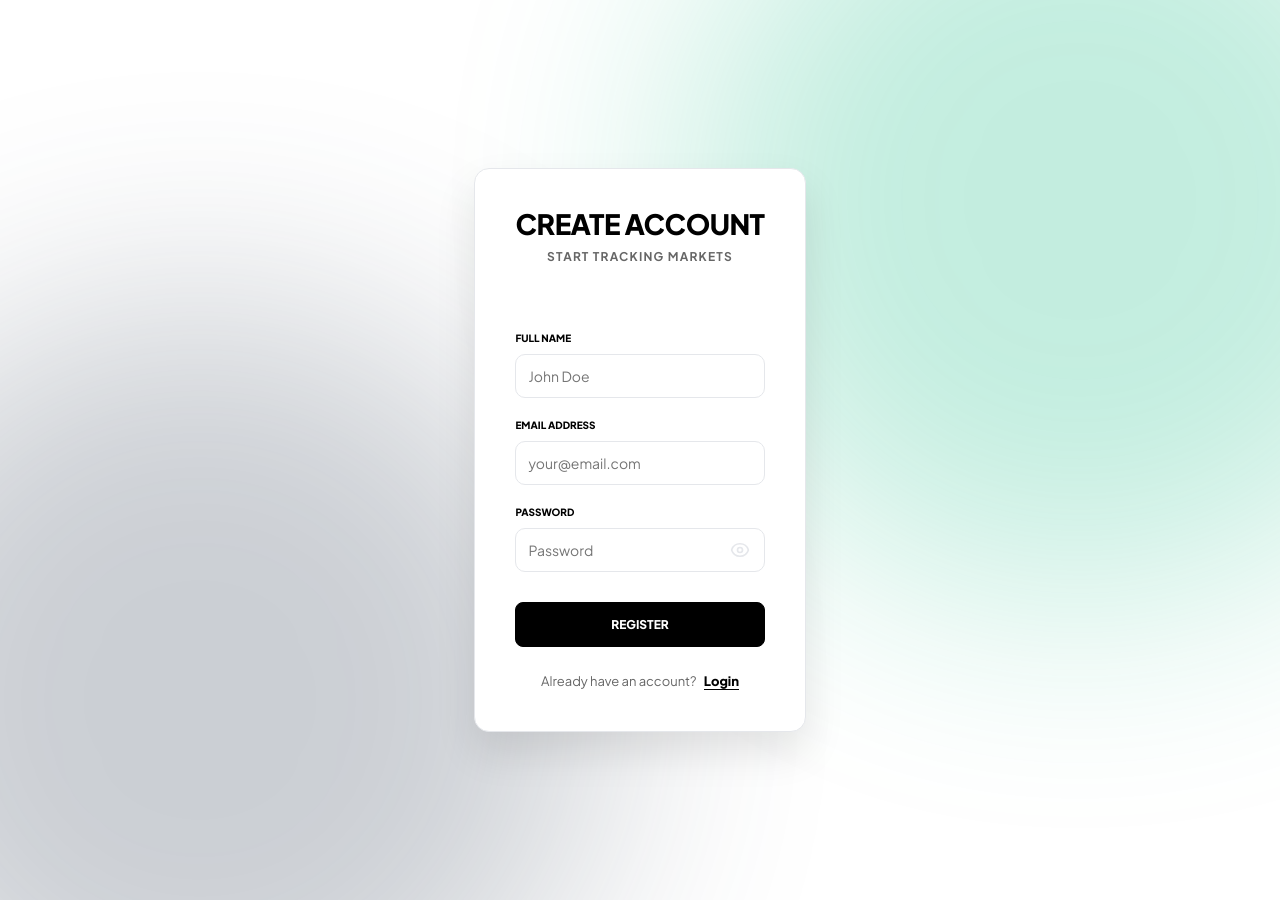
Scenario: Register › firebase hiba esetén megjelenik a hibaüzenet
In the field with placeholder "John Doe": (640, 376) left=516, top=354, right=764, bottom=398, type "Test Elek"
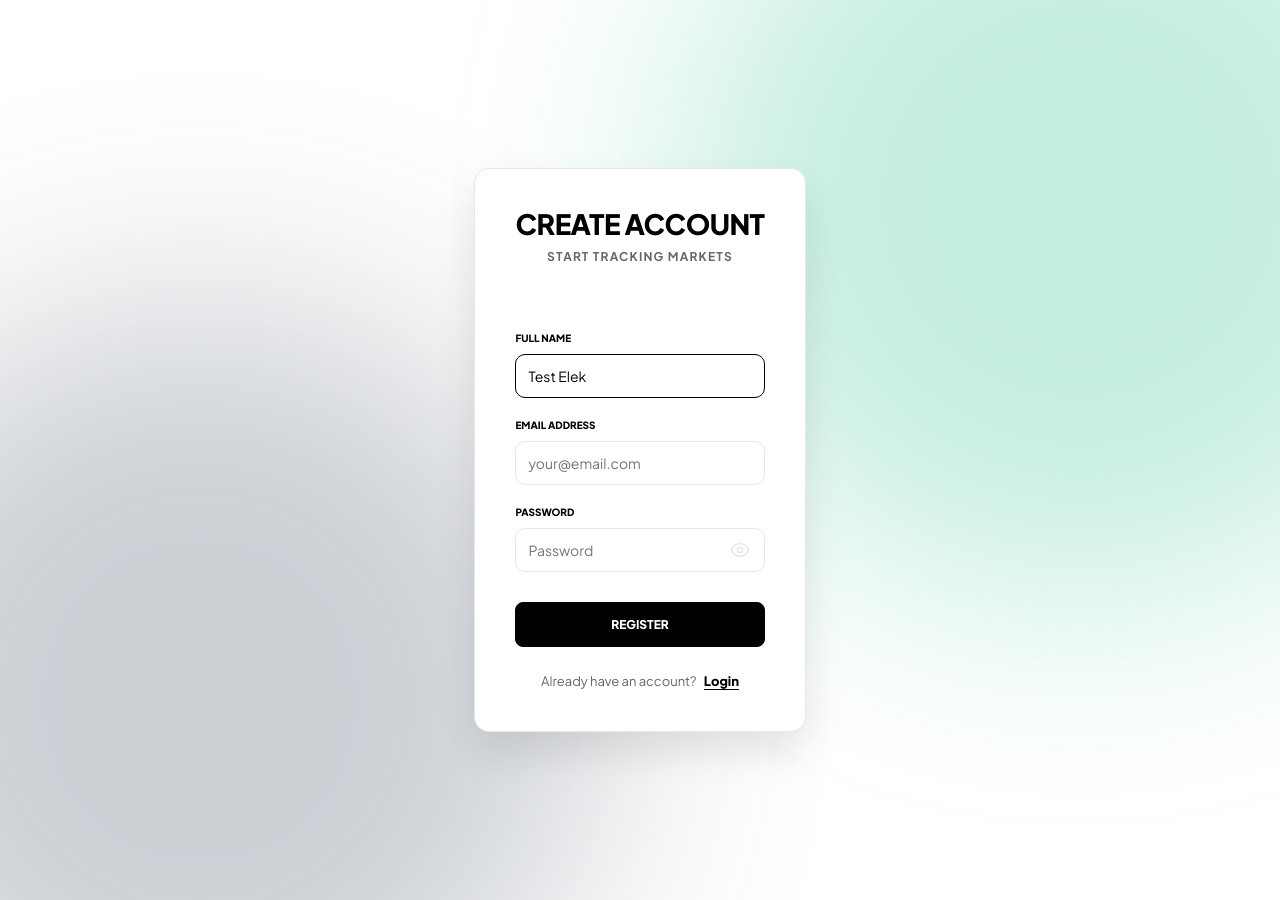
In the field with placeholder "your@email.com": (640, 463) left=516, top=441, right=764, bottom=485, type "test@test.com"
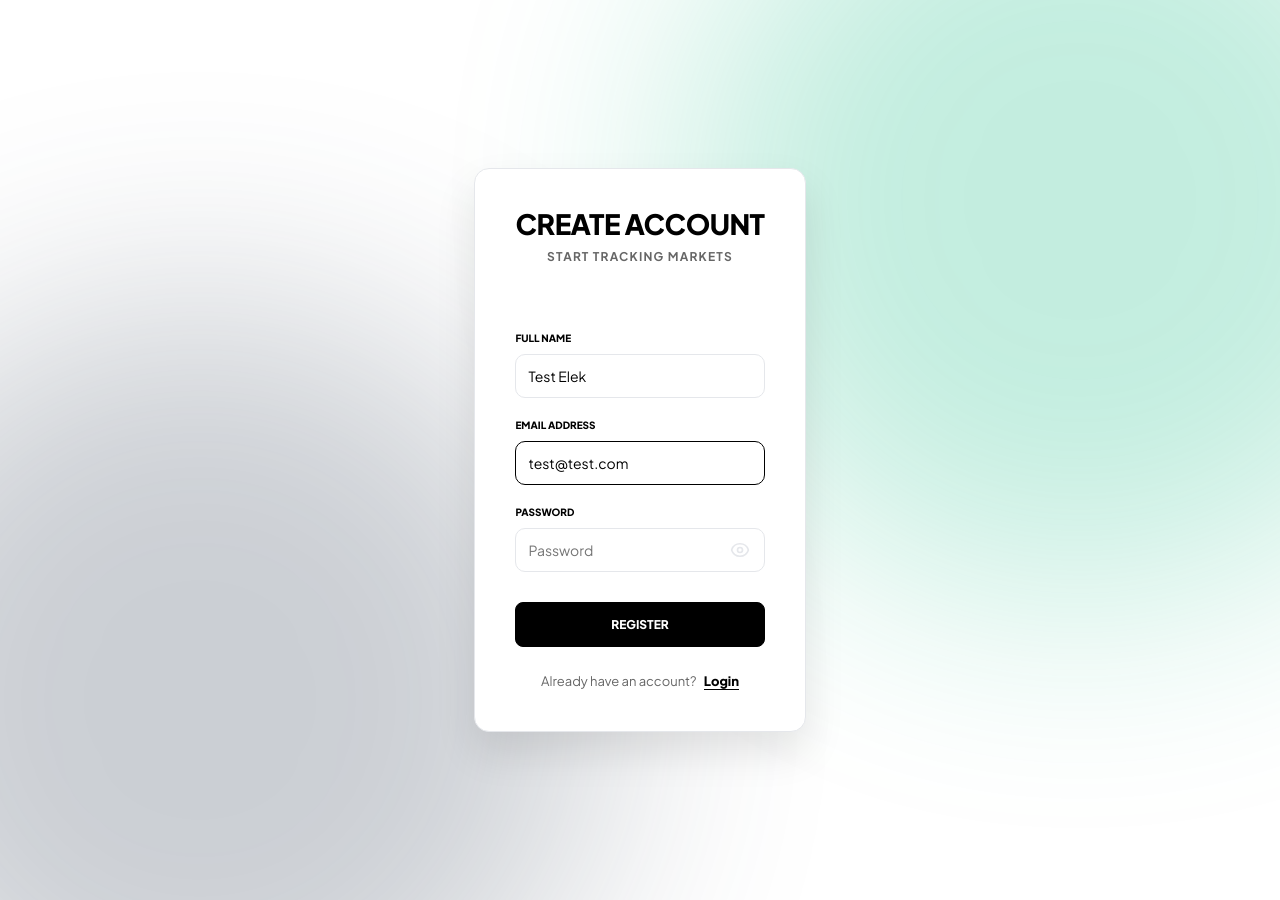
In the password field with placeholder "Password": (640, 550) left=516, top=528, right=764, bottom=572, type "123"
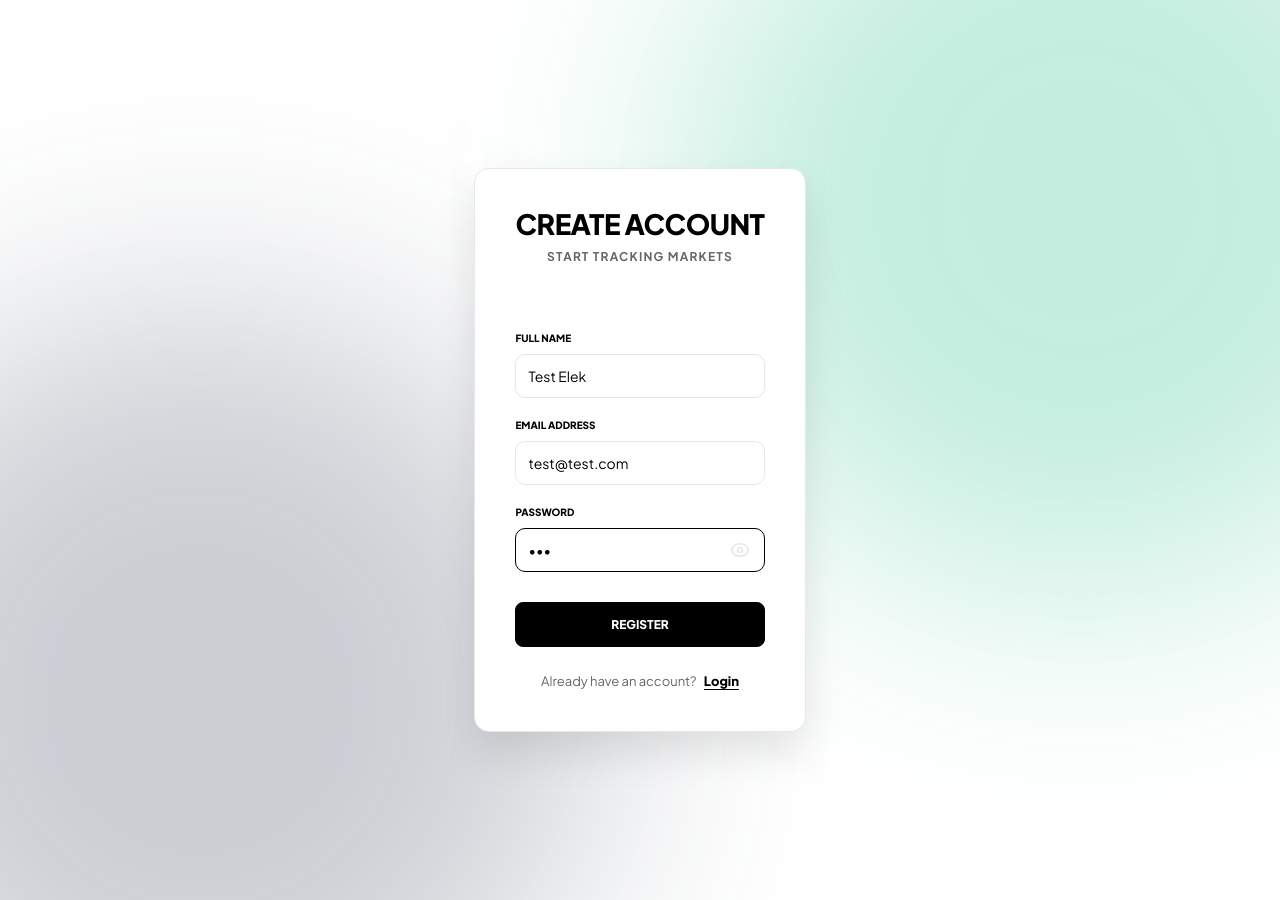
Click the button "Register": click(640, 624) left=516, top=602, right=764, bottom=647
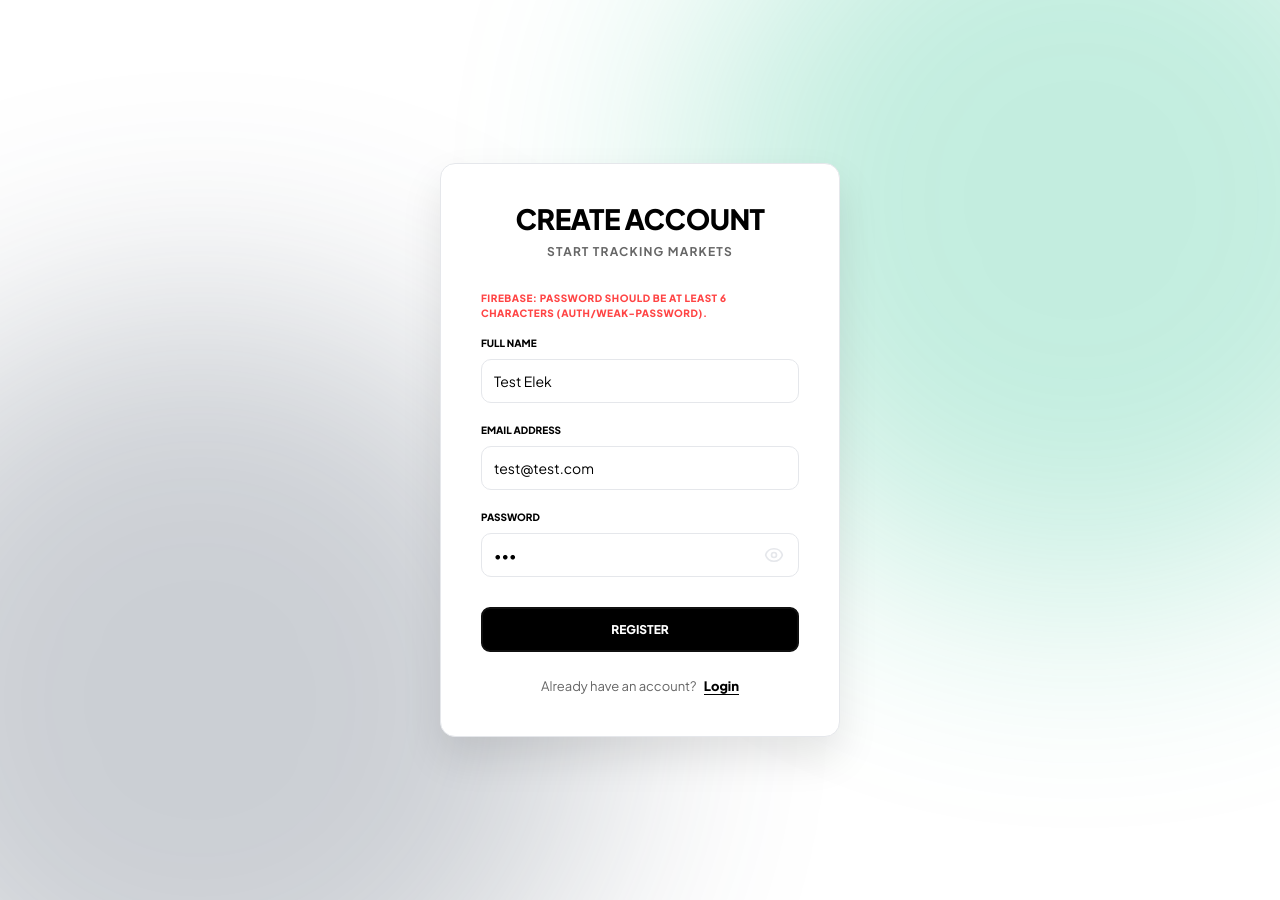
Expected: the text "weak-password" is shown, left=481, top=292, right=726, bottom=319
